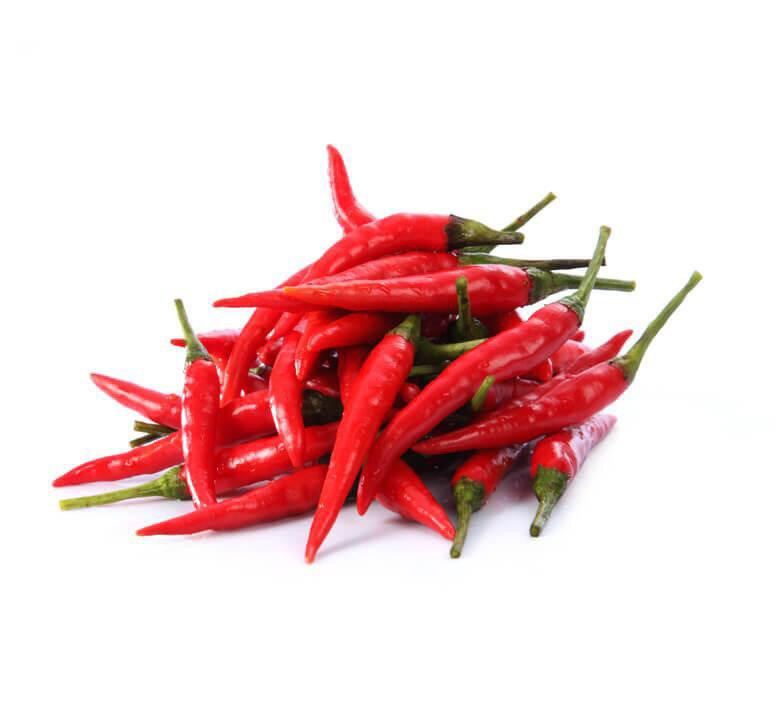lada merah: (372, 302, 594, 489), (297, 344, 424, 577), (436, 354, 634, 459), (283, 204, 464, 315), (136, 463, 350, 548), (256, 320, 333, 490), (163, 344, 226, 527), (282, 268, 546, 308), (54, 424, 187, 493), (88, 367, 183, 437)
